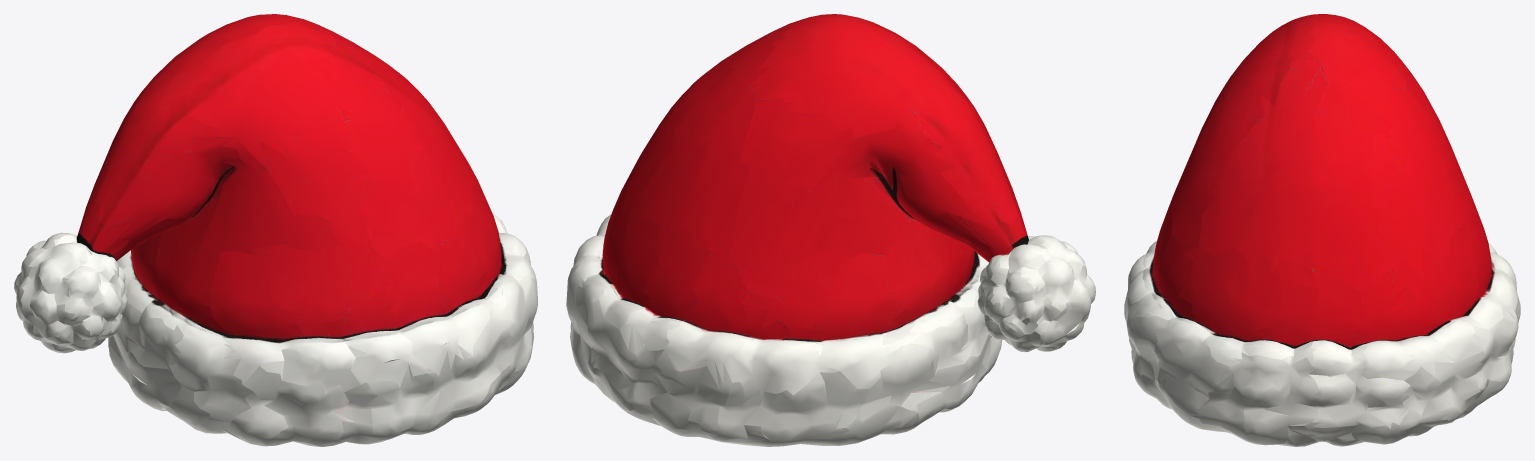
Rendered from hat_santa.glb.
3 renders of one model, left to right at view 1: azimuth 30°, elevation 25°; view 2: azimuth 150°, elevation 25°; view 3: azimuth 270°, elevation 25°, orthographic. The views are drawn at different scales.
Size of the model in its own units: 1.9 by 1.34 by 1.46.
Materials: 1 (1 with a texture image).
